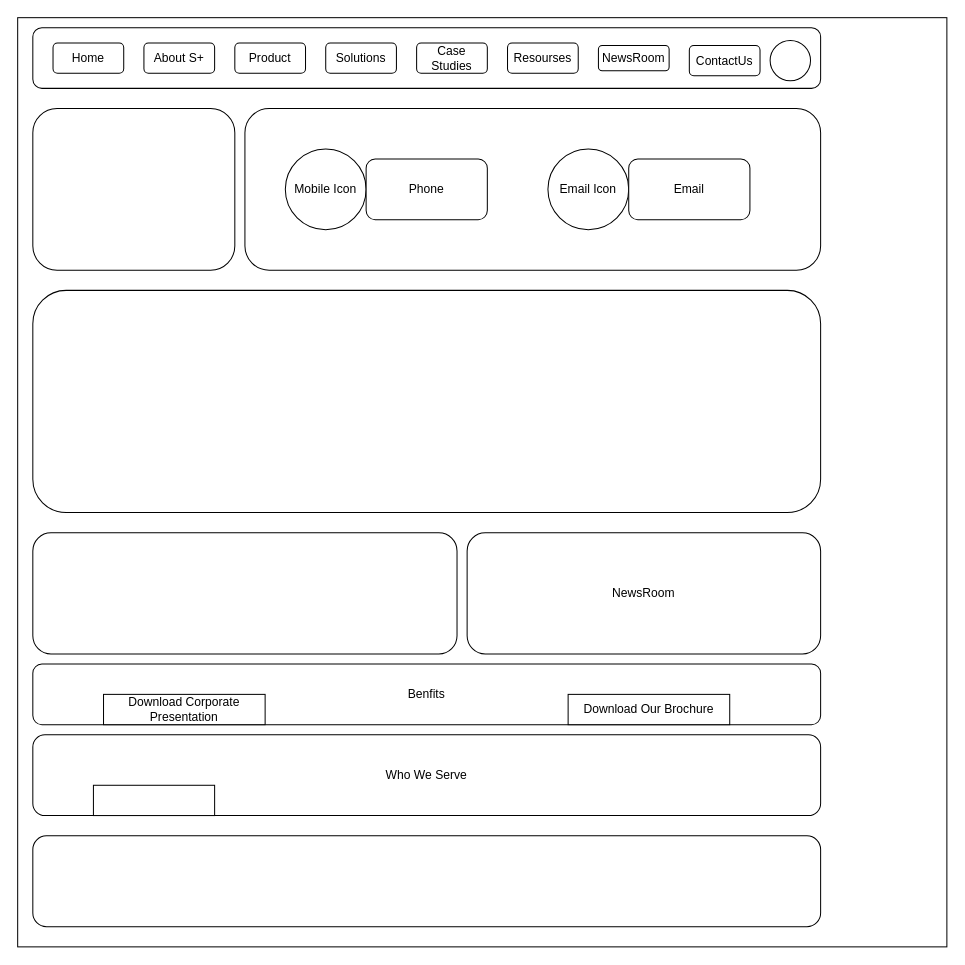
Some shapes in this 965 by 965 pixel diagram are drawn without their labels. Here are the shapes that lost their labels. From the top down, the centre of each, then its label:
At point (790, 60): "Search".
At point (133, 189): "Logo".
At point (426, 401): "Images with Animate.css".
At point (244, 593): "Who We Are".
At point (153, 800): "Learn More".
At point (426, 881): "Footer".
